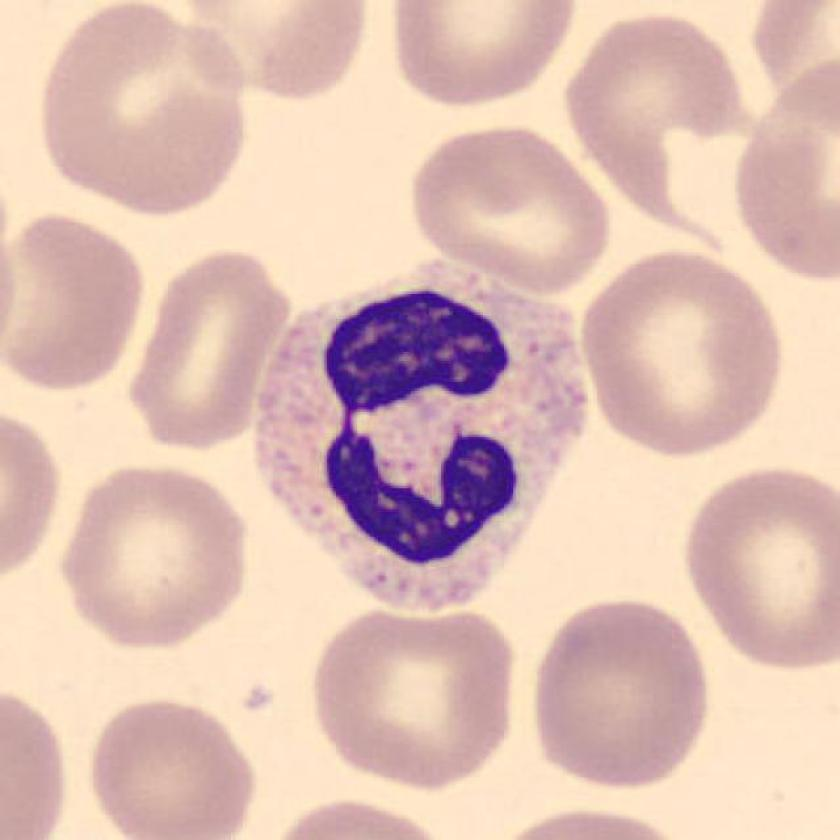neutrophil: (253, 268, 585, 613)
